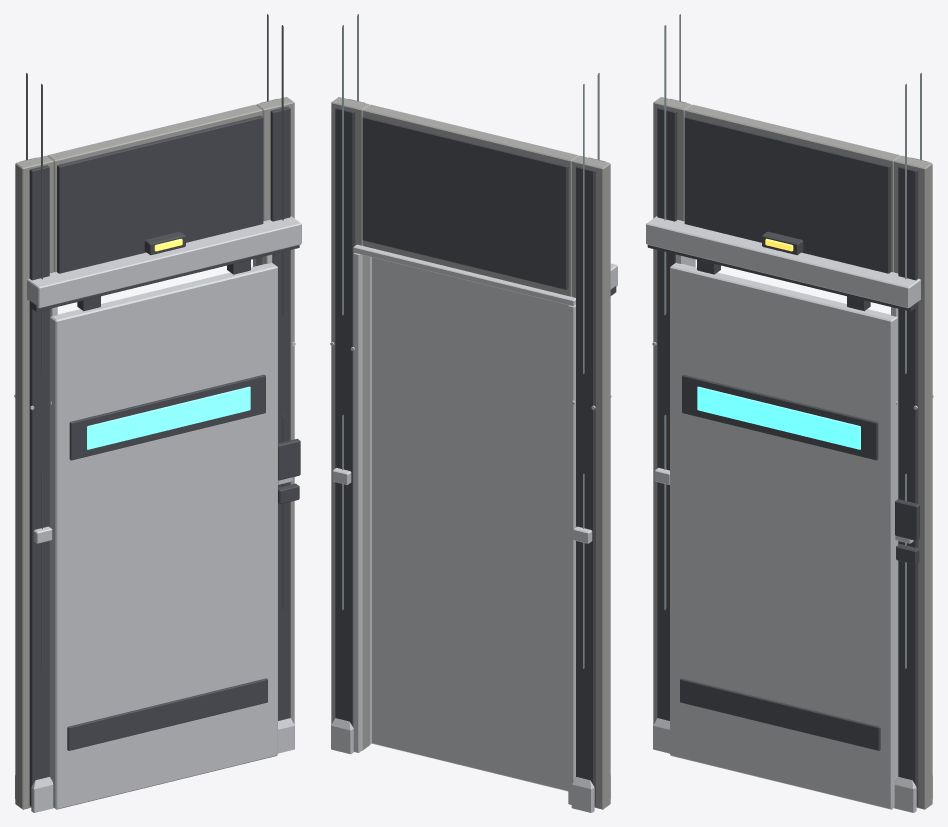
File: cyberpunk-apartment-and-neon-block-security-door-modul-3f5704d5__37789.glb
3 views of the same model, side by side, from view 1: azimuth 30°, elevation 25°; view 2: azimuth 150°, elevation 25°; view 3: azimuth 330°, elevation 25° (orthographic).
Visible parts, largest first — view 1: slider/metal, security-door-module, slider/dark, slider/cyan; view 2: slider/metal, security-door-module; view 3: slider/metal, security-door-module, slider/dark, slider/cyan.
Part boxes in pixels (box(x1,y1,x2,y2)): slider/metal: box(50, 263, 277, 809); security-door-module: box(14, 14, 301, 812); slider/dark: box(67, 259, 267, 750); slider/cyan: box(87, 386, 250, 449); slider/metal: box(372, 257, 568, 791); security-door-module: box(330, 14, 617, 812); slider/metal: box(670, 263, 897, 809); security-door-module: box(646, 14, 933, 812); slider/dark: box(680, 259, 880, 750); slider/cyan: box(697, 386, 860, 449).
Bounding box in the file's own units: 1.2 × 3.05 × 0.2001.
